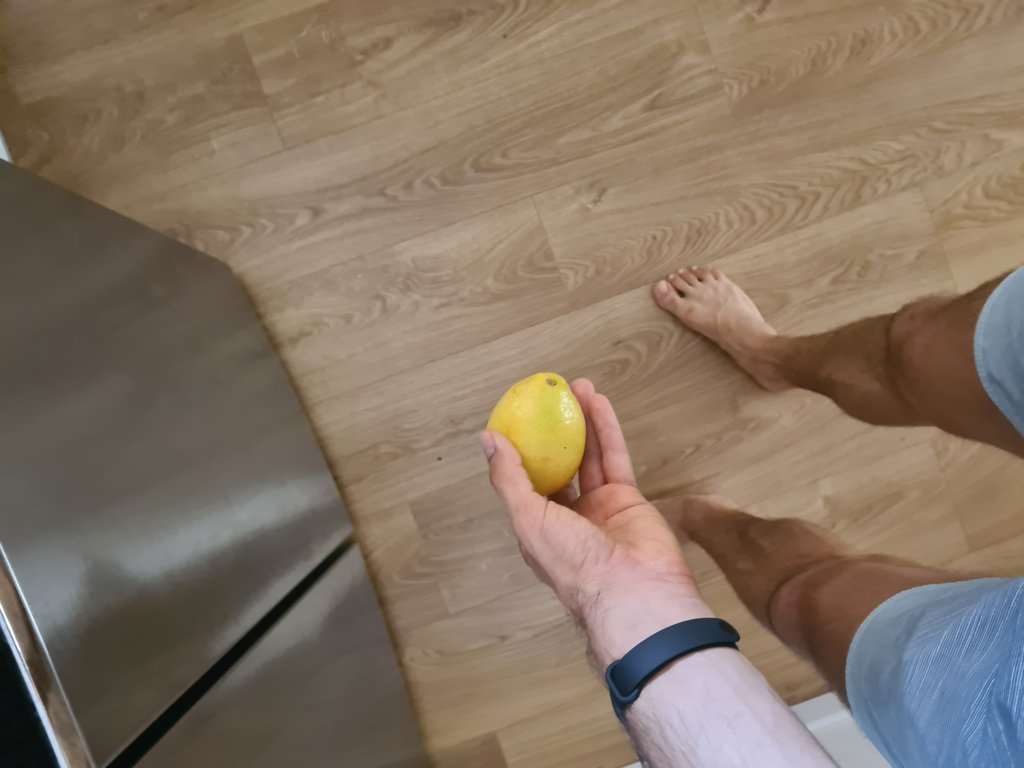lemon: (485, 367, 592, 502)
